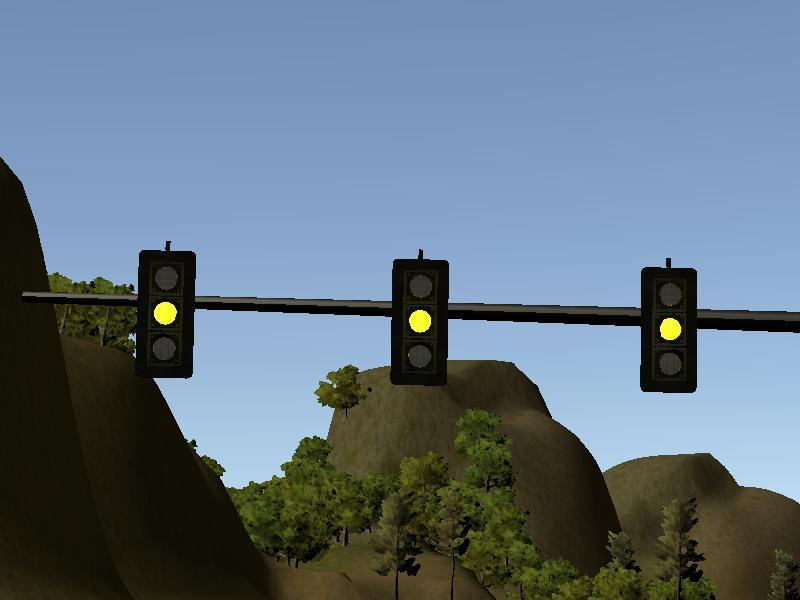Yellow: (641, 268, 698, 393), (138, 251, 193, 378), (394, 259, 446, 386)
